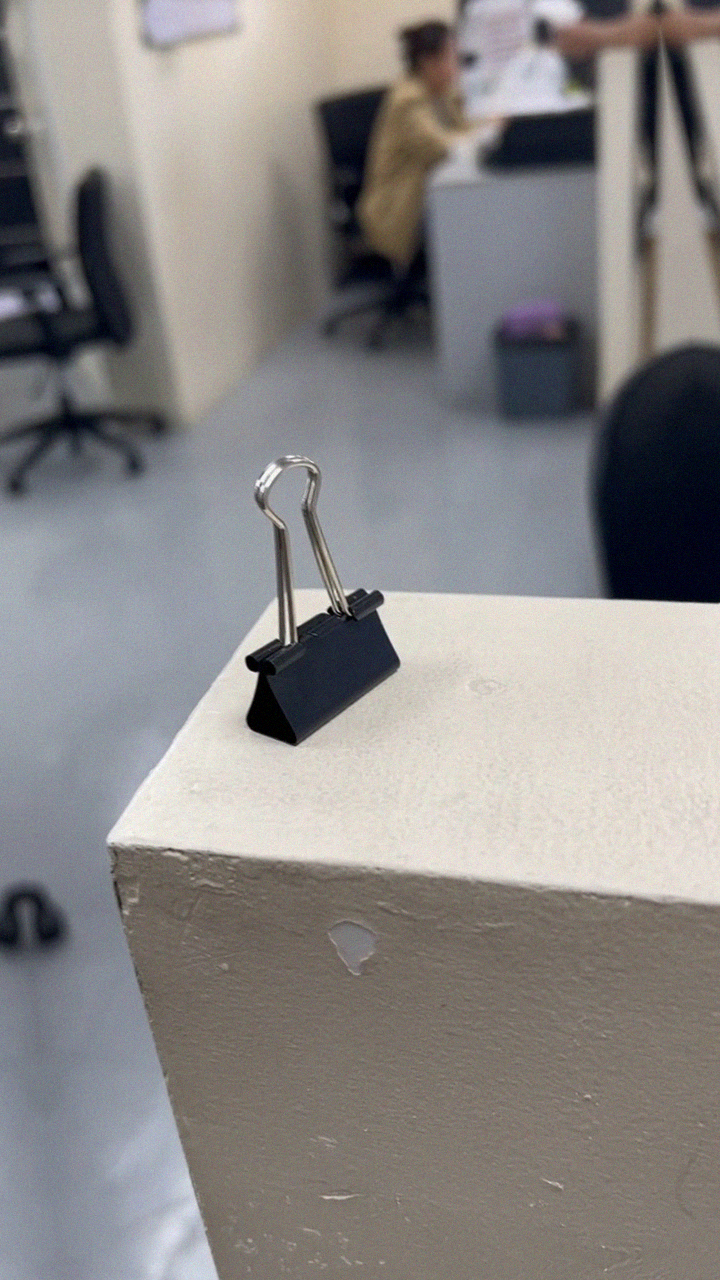kep_giay: (215, 442, 412, 755)
